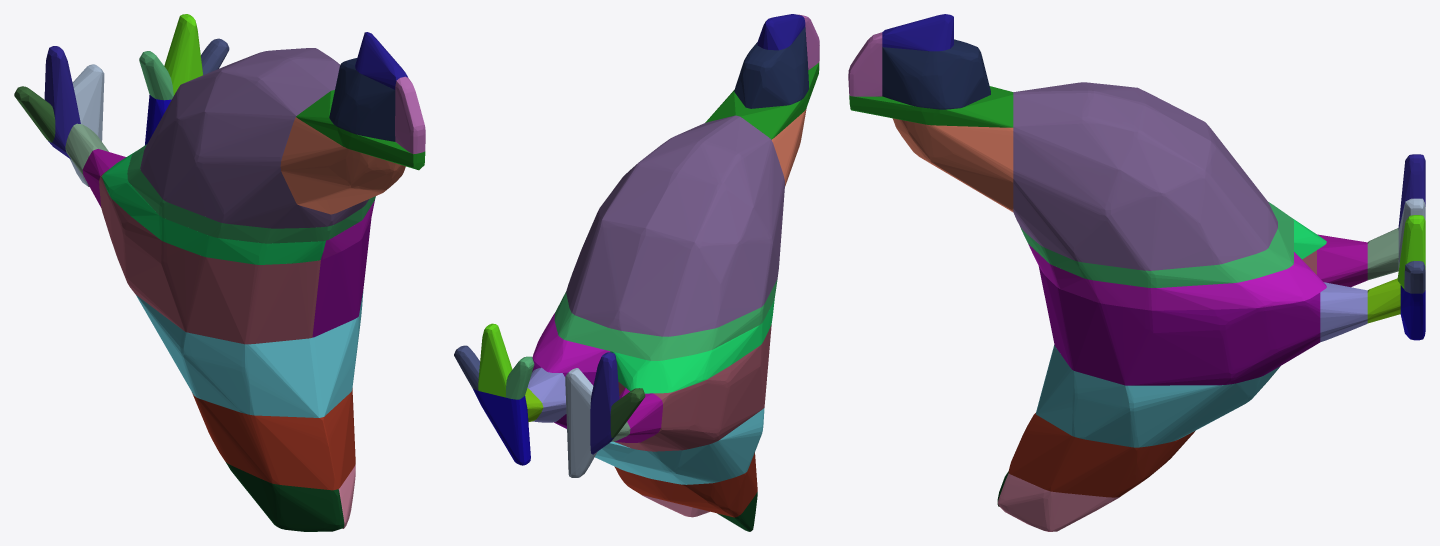
Rendered from chicken_coacd.obj.
The picture shows the model from 3 angles, left to right: view 1: azimuth 30°, elevation 25°; view 2: azimuth 150°, elevation 25°; view 3: azimuth 270°, elevation 25°; orthographic projection. The views are drawn at different scales.
Visible parts, largest first — view 1: geometry_1, geometry_13, geometry_2, geometry_15, geometry_9, geometry_23, geometry_10, geometry_25, geometry_21, geometry_11, geometry_8, geometry_18 (+12 smaller); view 2: geometry_1, geometry_13, geometry_2, geometry_10, geometry_23, geometry_21, geometry_15, geometry_6, geometry_5, geometry_8, geometry_22, geometry_18 (+11 smaller); view 3: geometry_1, geometry_11, geometry_2, geometry_15, geometry_22, geometry_9, geometry_21, geometry_10, geometry_8, geometry_24, geometry_12, geometry_14 (+9 smaller).
Boxes of the visible parts, x1,y1,x2,y2 form: geometry_1: (140,48,369,228); geometry_13: (99,170,320,344); geometry_2: (136,291,363,417); geometry_15: (192,388,355,490); geometry_9: (280,117,405,214); geometry_23: (102,151,325,264); geometry_10: (127,144,375,243); geometry_25: (226,462,344,531); geometry_21: (329,58,395,141); geometry_11: (312,218,371,337); geometry_8: (296,90,425,170); geometry_18: (44,46,80,159); geometry_1: (566,115,784,336); geometry_13: (614,324,771,451); geometry_2: (566,408,764,484); geometry_10: (554,279,777,360); geometry_23: (610,299,774,393); geometry_21: (734,27,808,108); geometry_15: (614,452,757,517); geometry_6: (565,368,597,477); geometry_5: (473,389,530,465); geometry_8: (705,62,819,139); geometry_22: (532,312,610,372); geometry_18: (590,352,619,454); geometry_1: (1013,82,1277,270); geometry_11: (1038,266,1320,385); geometry_2: (1036,345,1280,447); geometry_15: (1008,413,1195,497); geometry_22: (1028,244,1326,310); geometry_9: (892,118,1013,211); geometry_21: (882,39,990,109); geometry_10: (1020,202,1293,287); geometry_8: (849,86,1013,127); geometry_24: (998,473,1119,531); geometry_12: (1320,282,1367,342); geometry_14: (1317,234,1367,287).
Bounding box in the file's own units: 29.78 × 71.71 × 74.83.
